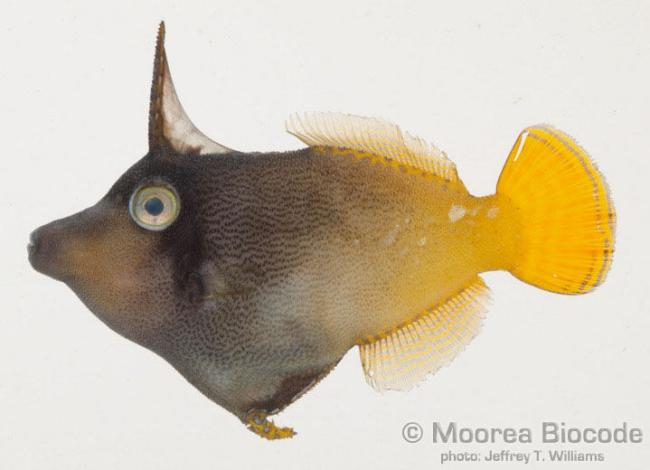fish: (26, 20, 617, 441)
